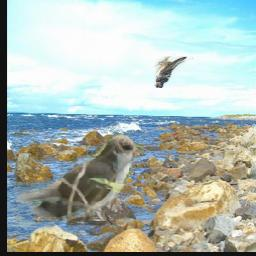Cuckoo: (16, 133, 145, 221)
Swallow: (155, 56, 195, 88)
